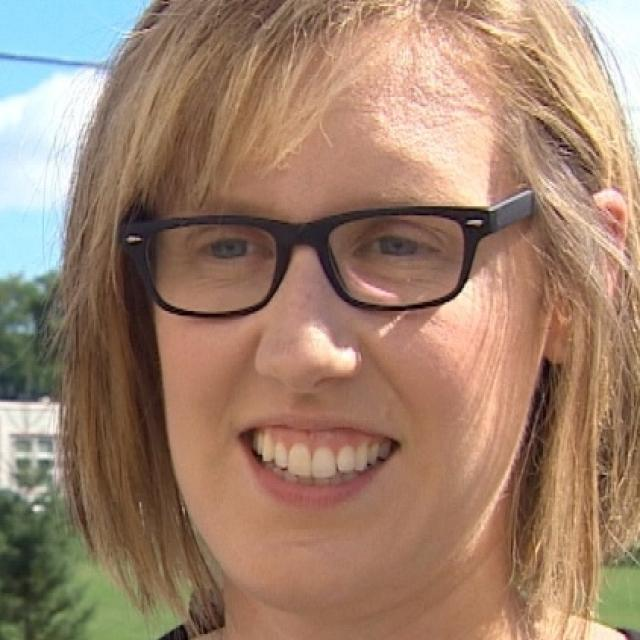Normal: (155, 30, 554, 605)
